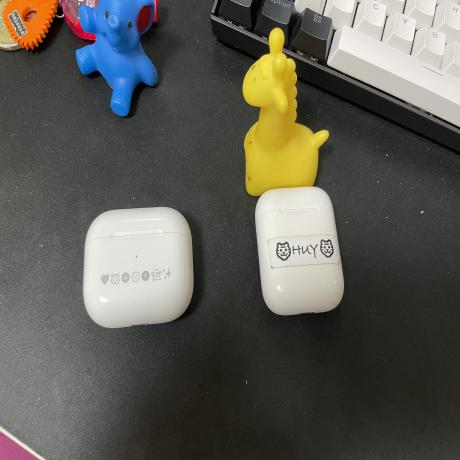airpod2: (254, 183, 348, 321)
airpod3: (81, 200, 199, 331)
